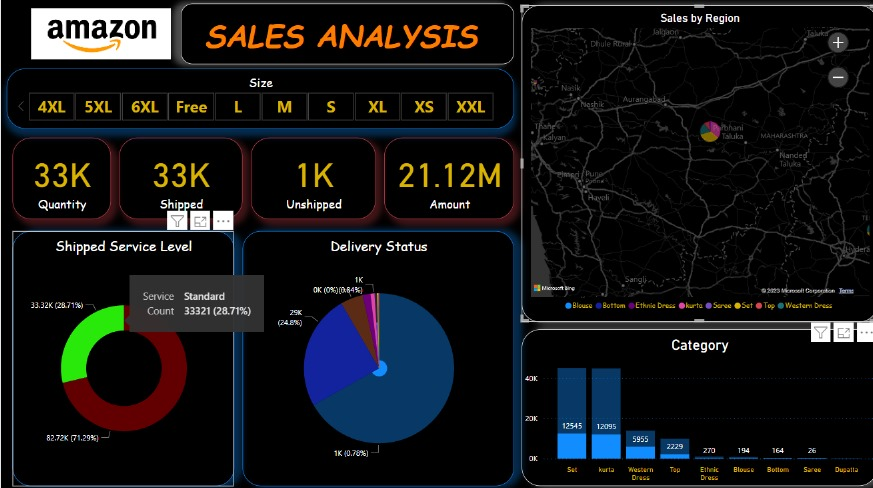

Layout of this report page (visuals, bound fields, positions):
{"tool":"powerbi","page":{"name":"Page 1","canvas":[1420,800],"ordinal":0},"visuals":[{"type":"slicer","title":"Size","fields":{"Values":["Amazon Sale Report.Size"]},"box":[9.4,112.6,816.1,96.5],"z":0},{"type":"textbox","box":[289.4,8,536,97.8],"z":1000},{"type":"columnChart","title":"Category","fields":{"Category":["Amazon Sale Report.Category"],"Y":["Sum(Amazon Sale Report.Quantity)"]},"box":[837.5,532,572.2,251.9],"z":2000},{"type":"card","fields":{"Values":["Sum(Amazon Sale Report.Quantity)"]},"box":[18.8,223.8,158.1,131.3],"z":3000},{"type":"map","title":"Sales by Region","fields":{"Category":["Amazon Sale Report.ship-state"],"Size":["Sum(Amazon Sale Report.Quantity)"],"Series":["Amazon Sale Report.Category"]},"box":[837.5,10.7,572.2,509.2],"z":4000},{"type":"card","fields":{"Values":["Sum(Amazon Sale Report.Shipped)"]},"box":[190.3,223.8,198.3,131.3],"z":5000},{"type":"card","fields":{"Values":["Sum(Amazon Sale Report.Unshipped)"]},"box":[402,223.8,201,131.3],"z":6000},{"type":"card","fields":{"Values":["Sum(Amazon Sale Report.Amount)"]},"box":[616.4,223.8,209,131.3],"z":7000},{"type":"pieChart","title":"Delivery Status","fields":{"Category":["Amazon Sale Report.Status"],"Y":["Sum(Amazon Sale Report.Quantity)"]},"box":[388.6,373.9,436.9,410.1],"z":8000},{"type":"donutChart","title":"Shipped Service Level","fields":{"Category":["Amazon Sale Report.ship-service-level"],"Y":["CountNonNull(Amazon Sale Report.ship-service-level)"]},"box":[18.8,373.9,356.4,410.1],"z":8001},{"type":"image","box":[9.4,10.7,302.8,92.5],"z":8002}]}

Visuals, with their boxes in screenshot pixels (x1, y1, x2, y2), scaled from the page's 1420x800 canvas onto the 873x488 screenshot:
"Size" slicer: <bbox>6, 69, 508, 128</bbox>
textbox: <bbox>178, 5, 507, 65</bbox>
"Category" columnChart: <bbox>515, 325, 867, 478</bbox>
card - Sum(Amazon Sale Report.Quantity): <bbox>12, 137, 109, 217</bbox>
"Sales by Region" map: <bbox>515, 7, 867, 317</bbox>
card - Sum(Amazon Sale Report.Shipped): <bbox>117, 137, 239, 217</bbox>
card - Sum(Amazon Sale Report.Unshipped): <bbox>247, 137, 371, 217</bbox>
card - Sum(Amazon Sale Report.Amount): <bbox>379, 137, 507, 217</bbox>
"Delivery Status" pieChart: <bbox>239, 228, 508, 478</bbox>
"Shipped Service Level" donutChart: <bbox>12, 228, 231, 478</bbox>
image: <bbox>6, 7, 192, 63</bbox>
